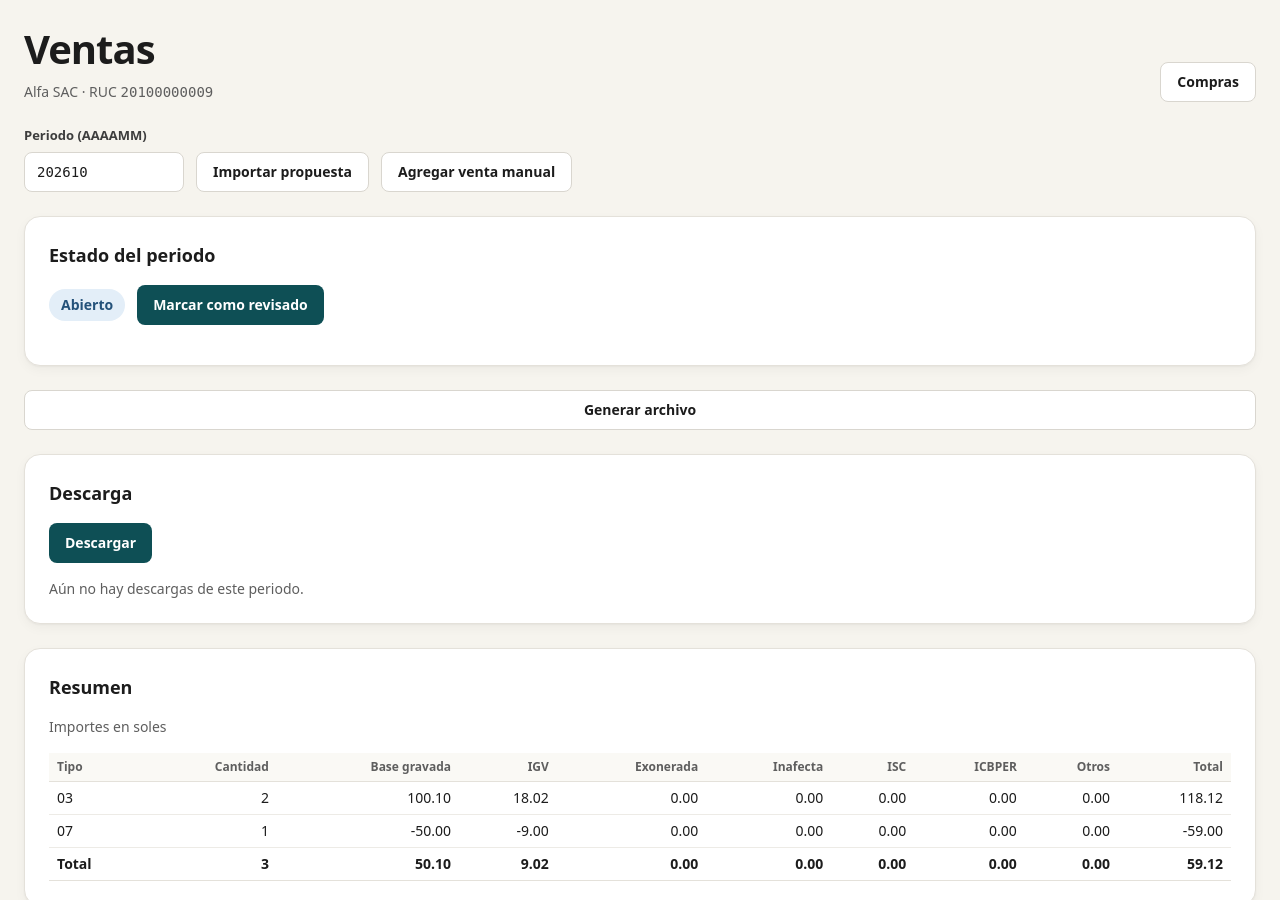
Test: Ventas · avisos únicos (spec 018 T1, CA-10) › feliz: «Venta excluida» (desde el panel y su diálogo) sale en un solo aviso
This screenshot has width=1280, height=900.
Click the button "Generar archivo" at (640, 410), box [24, 390, 1256, 430]
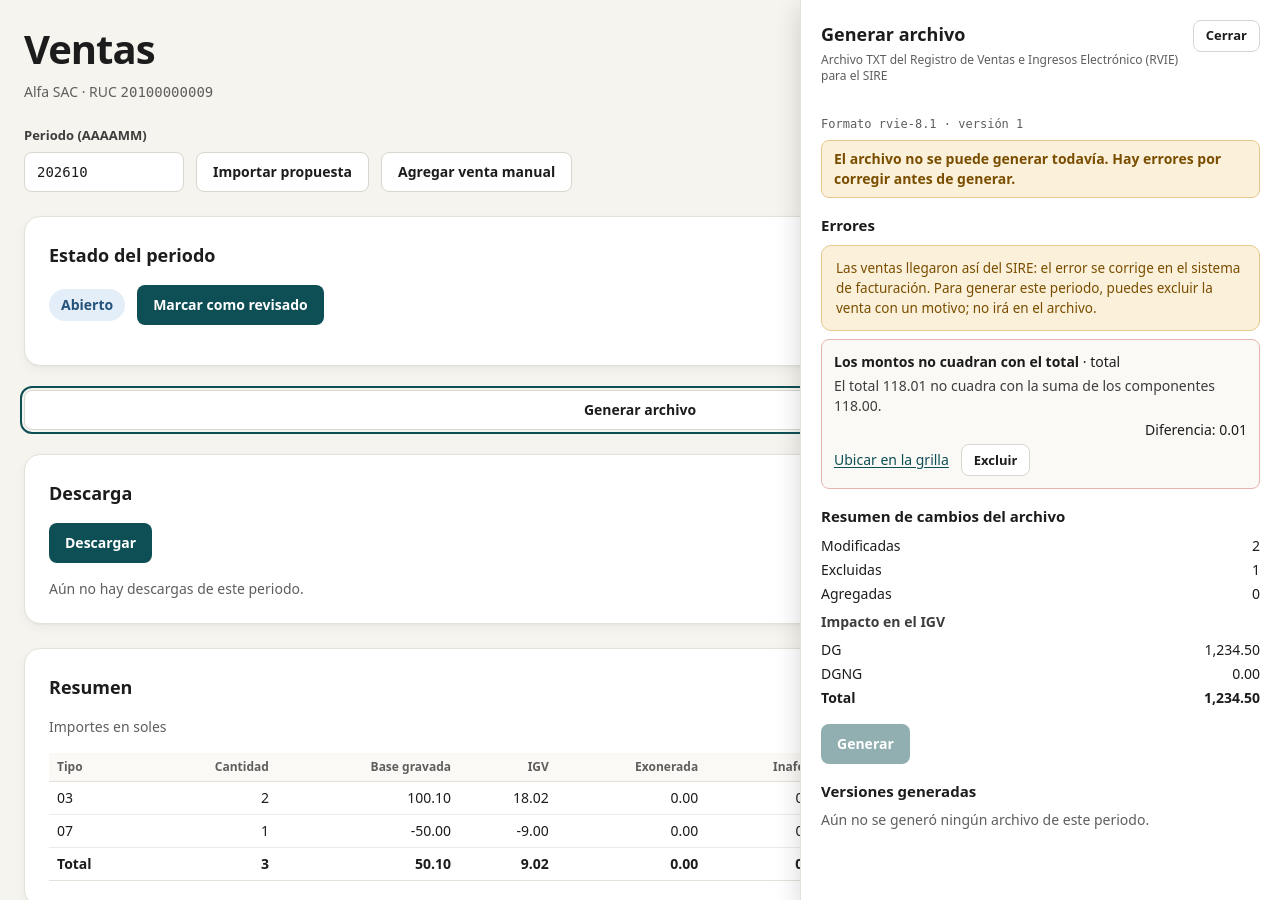
Click the button "Excluir" at (996, 460), box [961, 444, 1030, 476]
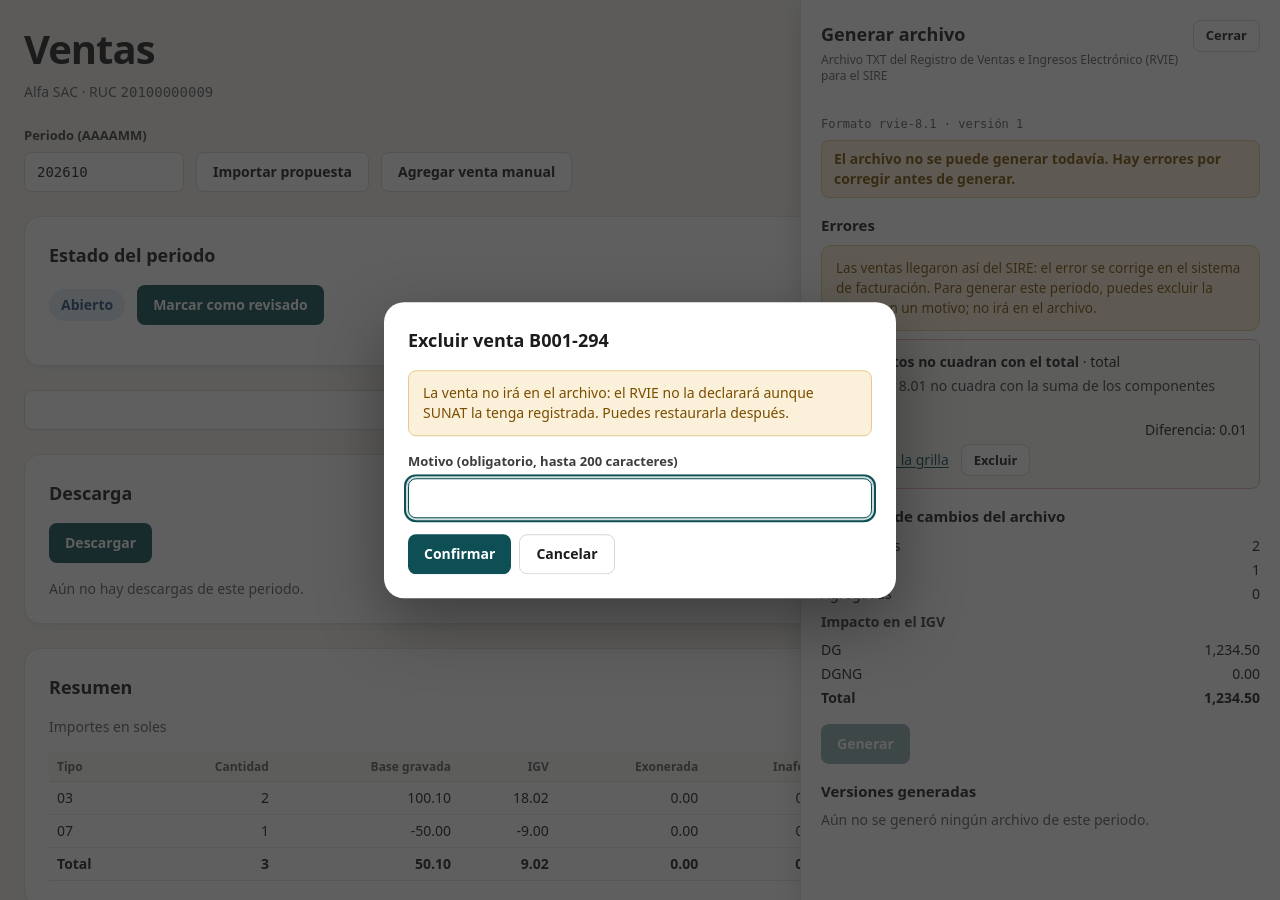
Type "Factura anulada en el sistema de facturación" into the field labelled "Motivo (obligatorio, hasta 200 caracteres)" at (640, 498), box [408, 478, 872, 518]
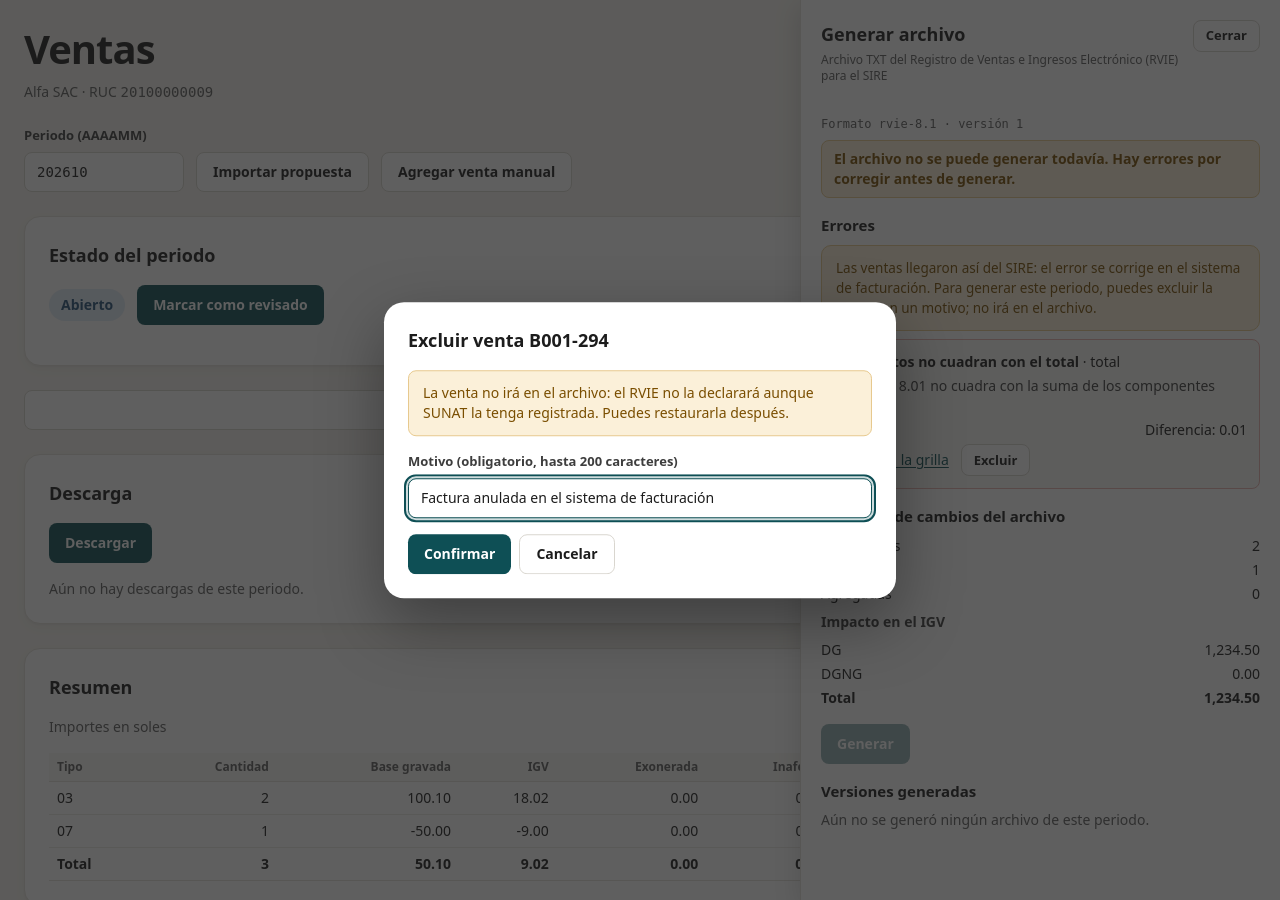
Click the button "Confirmar" at (460, 554), box [408, 534, 511, 574]
(page scrolled)
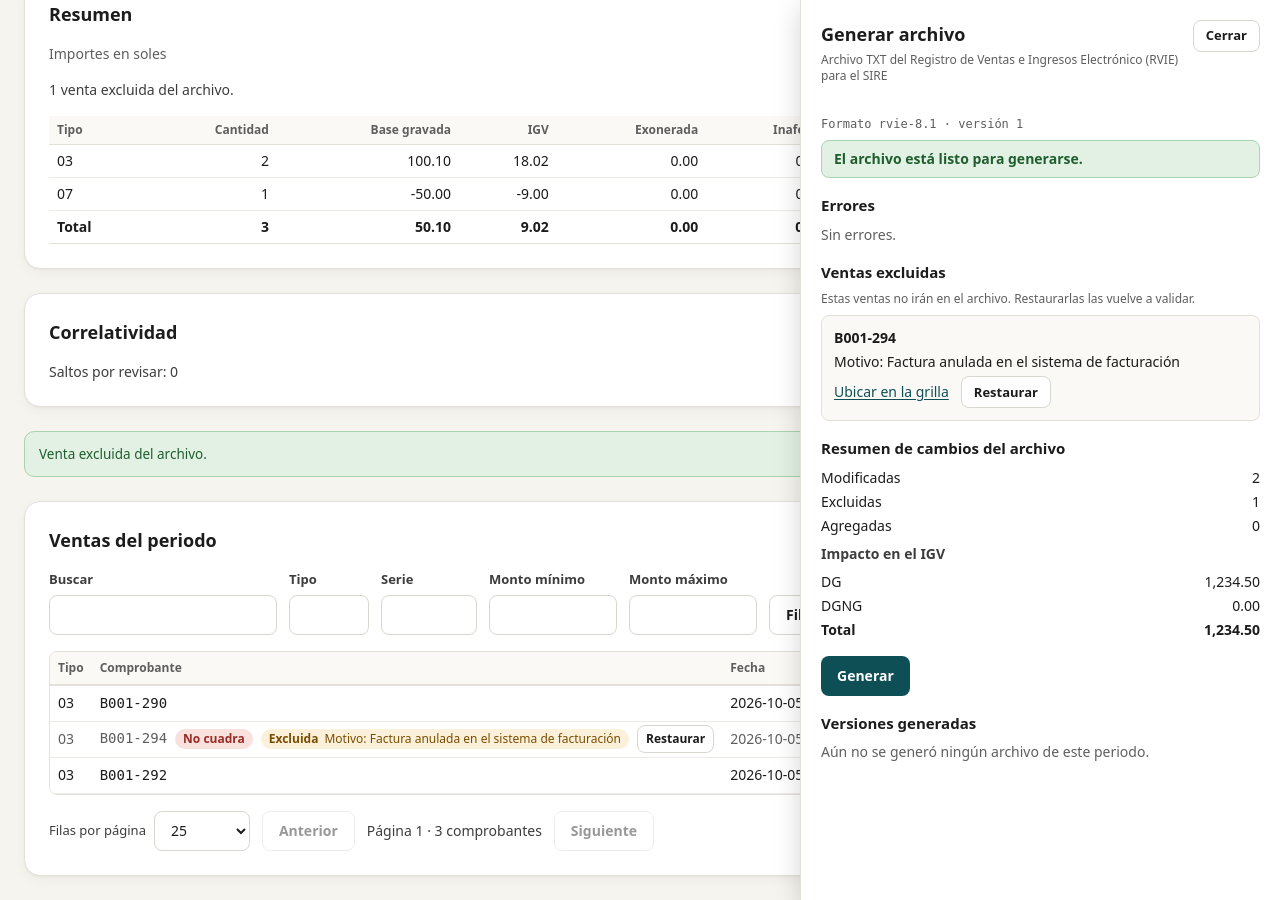
Check: the text "Venta excluida del archivo." is shown, box [24, 430, 1256, 477]
